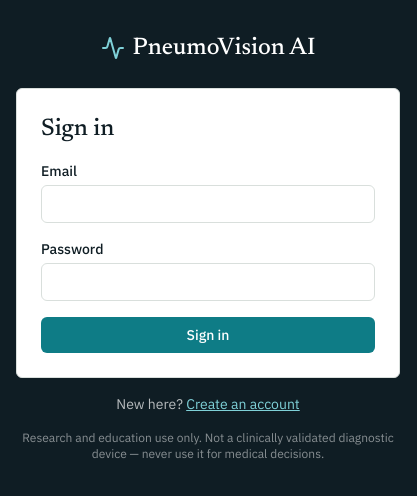
Test case: routing › shows validation errors on the login form
Click the button "Sign in" at coordinates (208, 335), box [41,317,375,353]
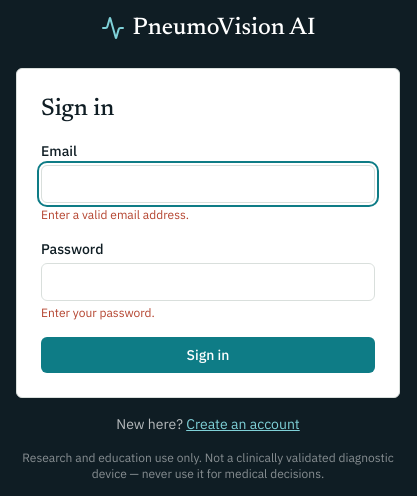
Expected: the text "Enter a valid email address." is shown, [41,207,189,222]
